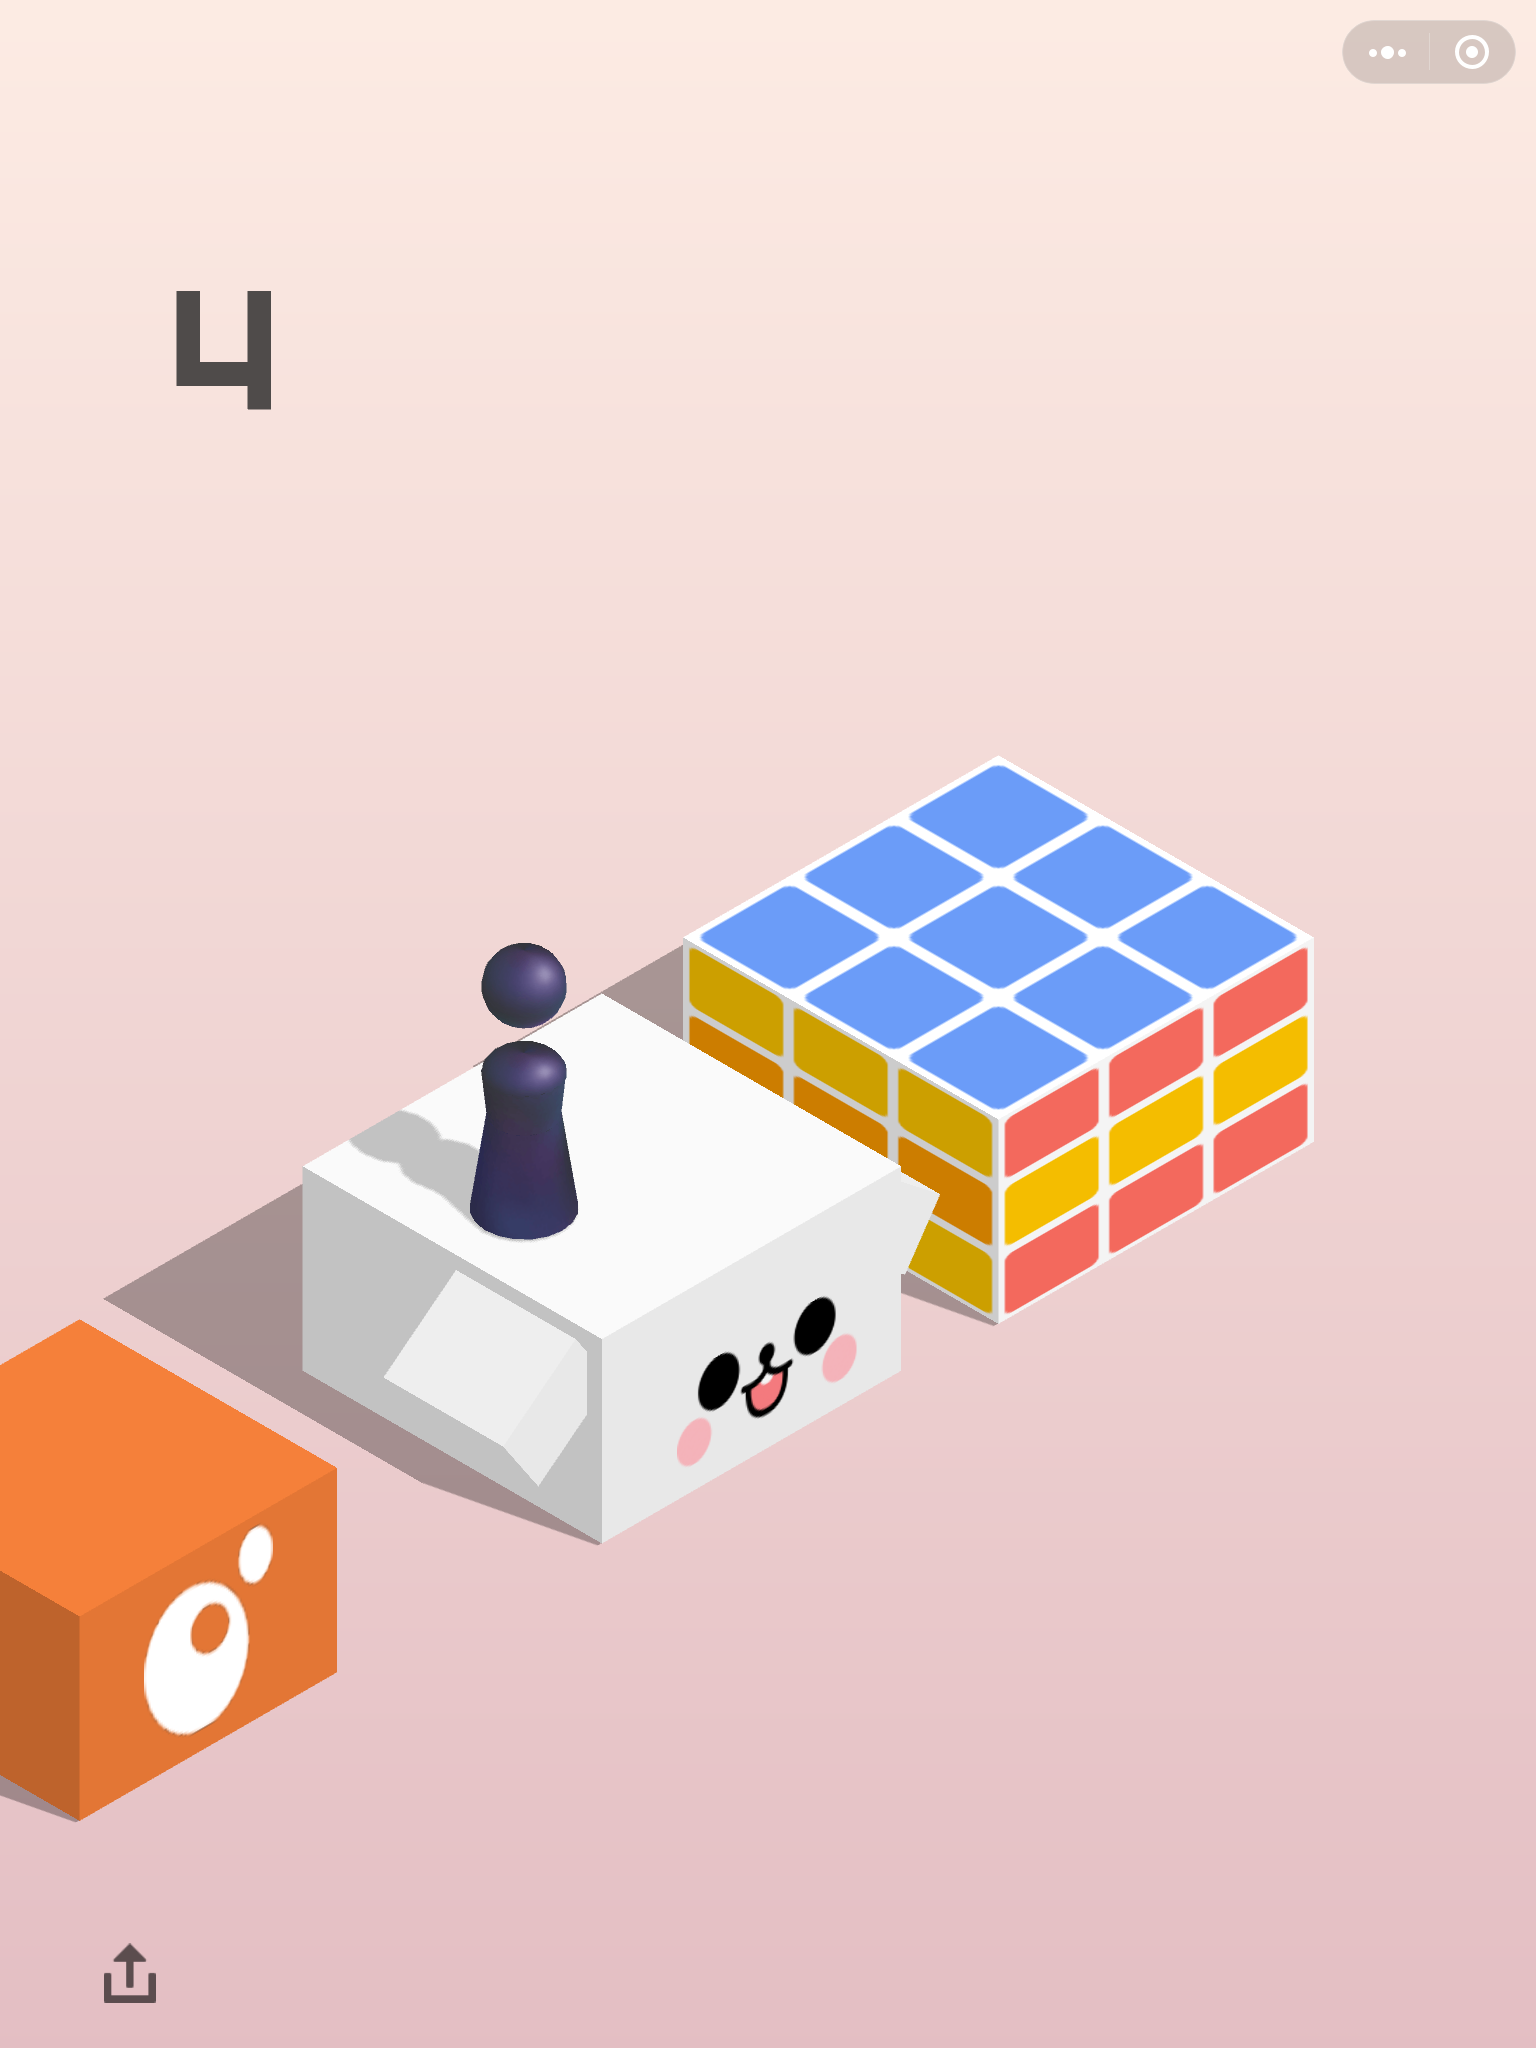f: (294, 987, 942, 1555), (679, 755, 1318, 1330), (2, 1311, 340, 1824)
r: (465, 935, 582, 1245)
